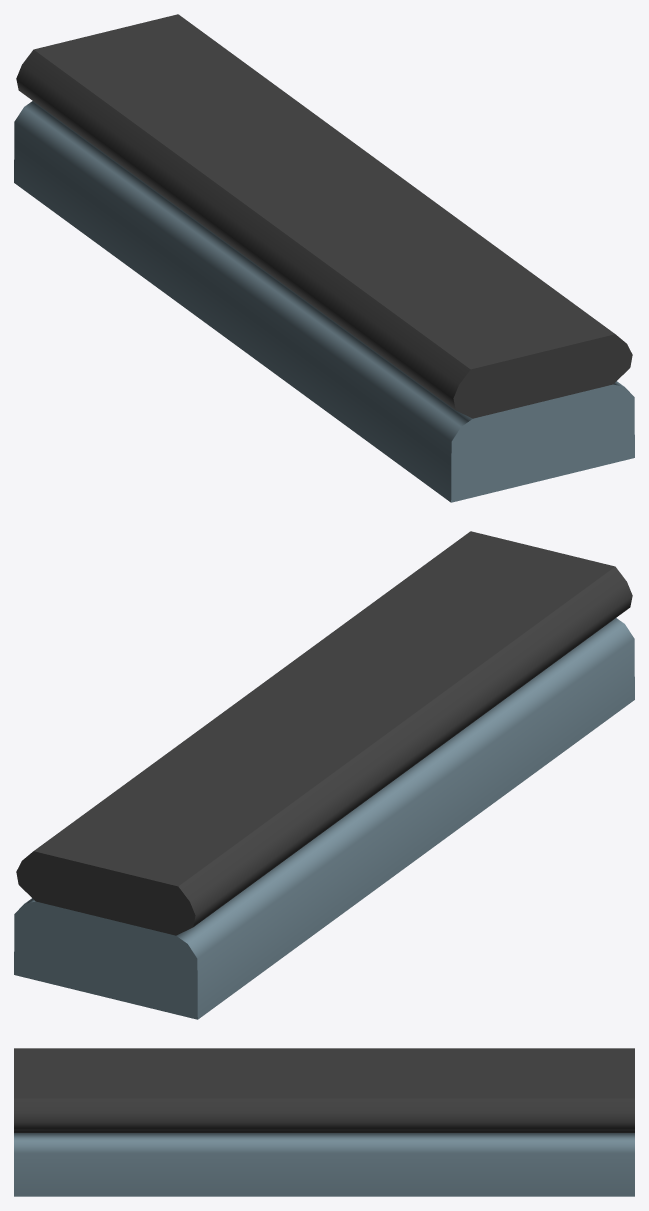
The model's file is Earser.fbx.
3 renders of one model, top to bottom at view 1: azimuth 30°, elevation 25°; view 2: azimuth 150°, elevation 25°; view 3: azimuth 270°, elevation 25°, orthographic. The views are drawn at different scales.
Parts seen in each view (by area): view 1: Earser; view 2: Earser; view 3: Earser.
Part boxes in pixels (<box>): Earser: <box>14,14,634,502</box>; Earser: <box>14,531,634,1019</box>; Earser: <box>14,1048,634,1196</box>.
Size of the model in its own units: 6.72 by 4.49 by 27.66.
1 material, 1 textured.
